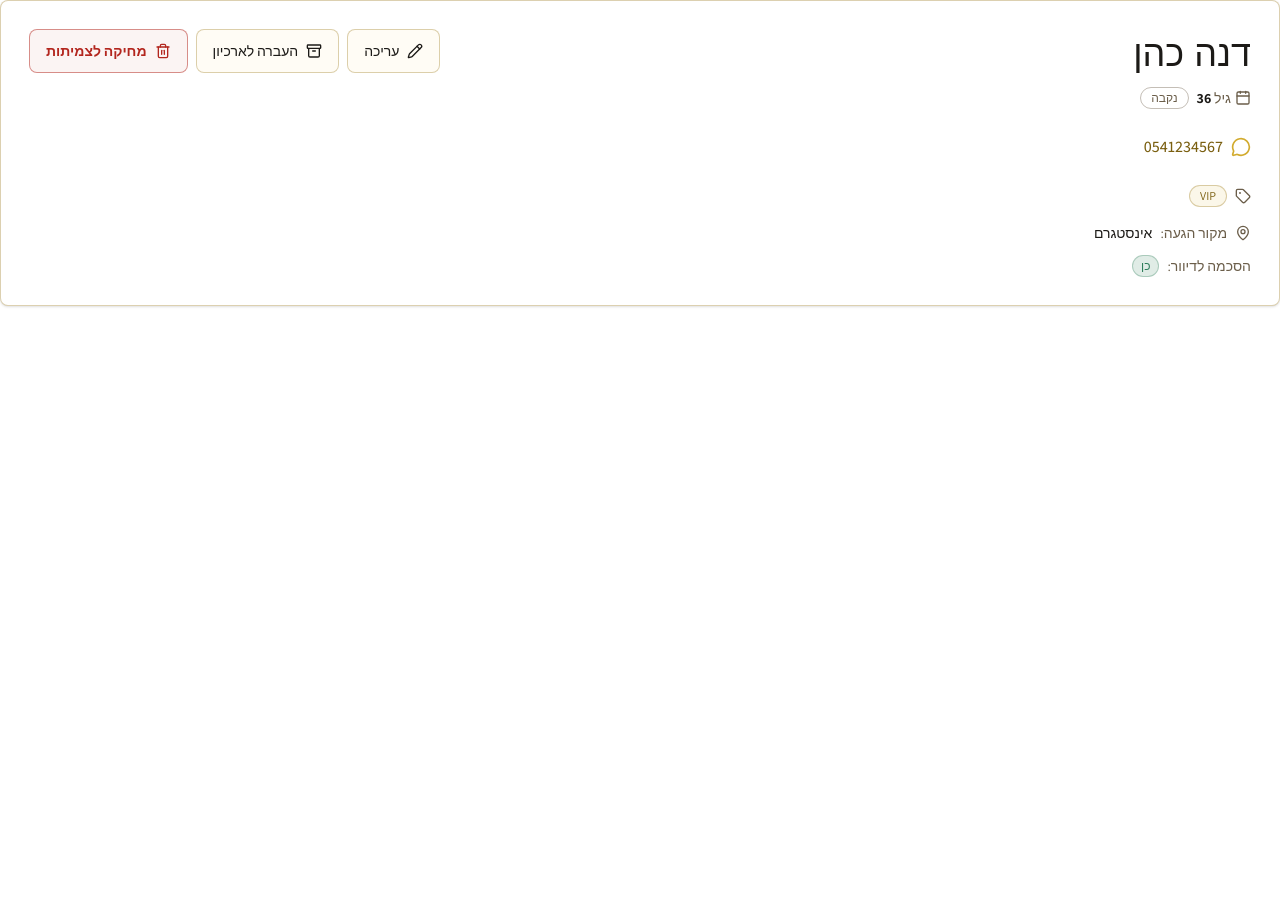
Test: EditClientDialog — כפתור עריכה בכותרת › לחיצה פותחת טופס עריכה טעון בערכי הלקוח/ה הקיימים
This screenshot has width=1280, height=900.
What coordinates should you click on to do the following:
click the button "עריכה"
I would click on:
 (394, 51)
Its box is x1=347 y1=29 x2=440 y2=73.
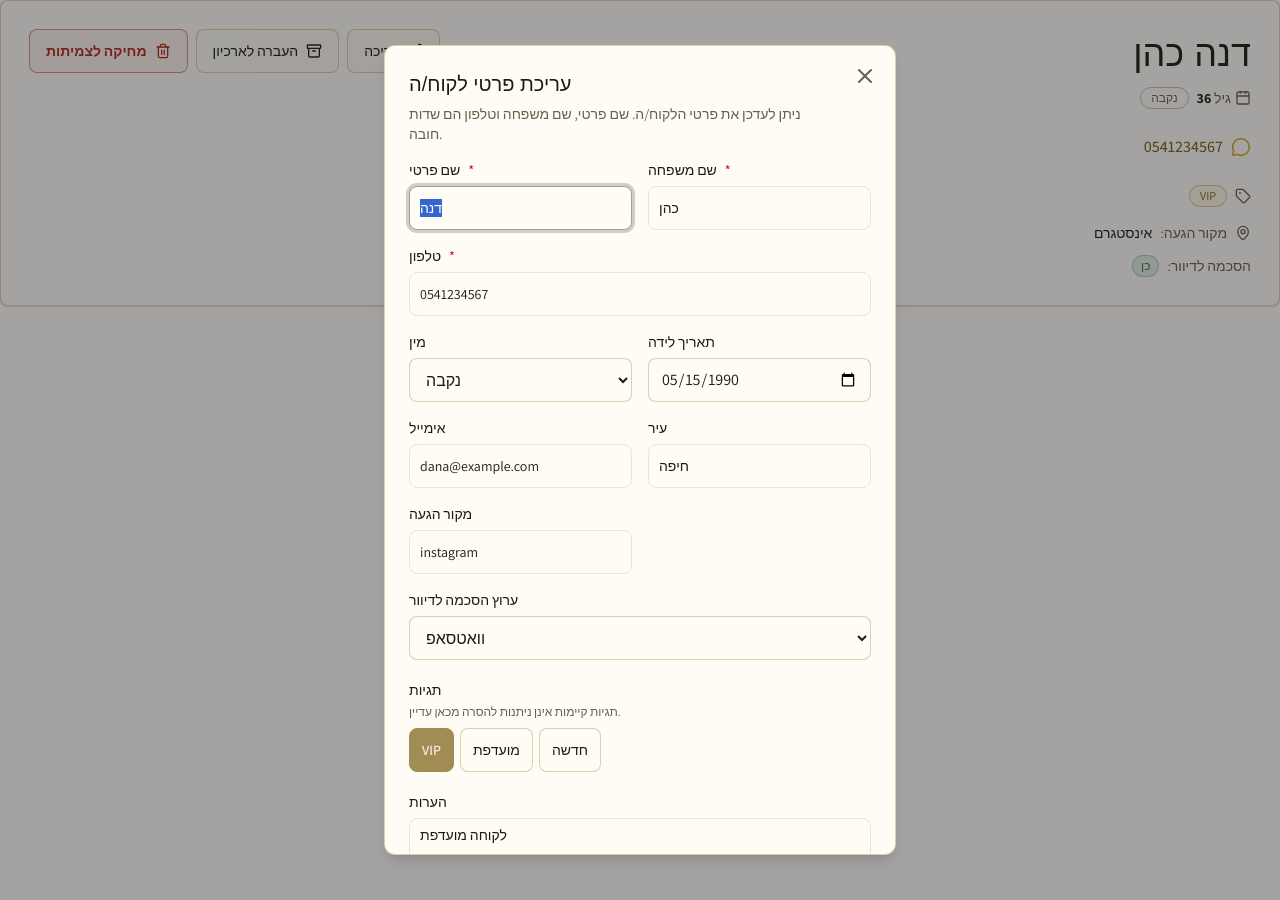
Expected: the dialog is shown, x1=384 y1=45 x2=896 y2=855
Expected: the form named "טופס עריכת לקוח/ה" is shown, x1=409 y1=160 x2=871 y2=855
Expected: the field with id "ec-first-name" holds "דנה", x1=409 y1=186 x2=632 y2=230
